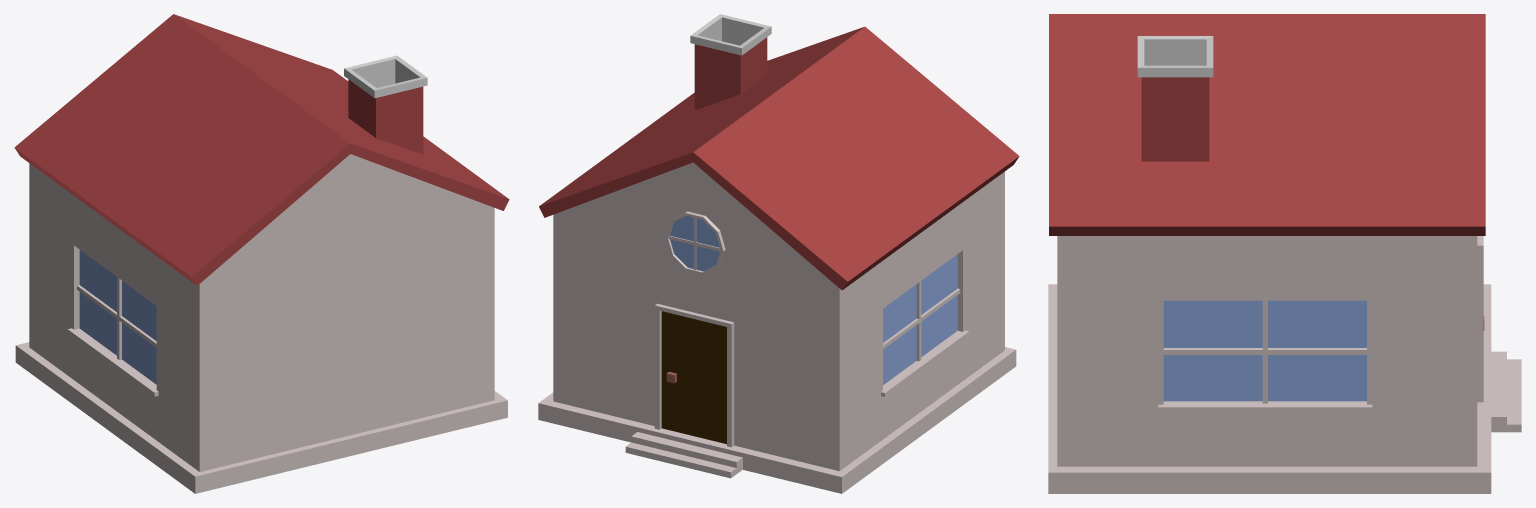
The model's file is House.fbx.
The picture shows the model from 3 angles, left to right: view 1: azimuth 30°, elevation 25°; view 2: azimuth 150°, elevation 25°; view 3: azimuth 270°, elevation 25°; orthographic projection. The views are drawn at different scales.
Visible parts, largest first — view 1: House1; view 2: House1; view 3: House1.
Boxes of the visible parts, bbox=[...] form: House1: bbox=[14, 14, 509, 493]; House1: bbox=[538, 14, 1019, 493]; House1: bbox=[1048, 14, 1521, 493].
Bounding box in the file's own units: 6.7 × 6.52 × 6.99.
